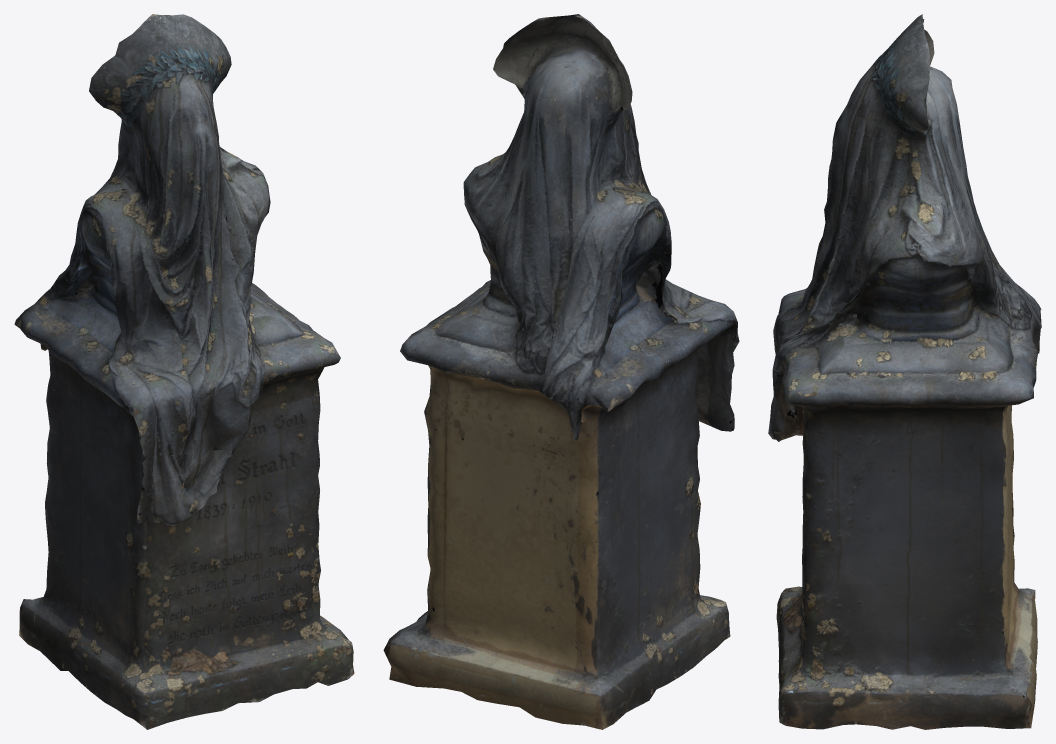
Rendered from angel_statue4.glb.
3 renders of one model, left to right at view 1: azimuth 30°, elevation 25°; view 2: azimuth 150°, elevation 25°; view 3: azimuth 270°, elevation 25°, orthographic.
Visible parts, largest first — view 1: geo1; view 2: geo1; view 3: geo1.
Boxes of the visible parts, left/top/right/bottom form: geo1: left=14, top=14, right=354, bottom=729; geo1: left=383, top=14, right=739, bottom=729; geo1: left=768, top=14, right=1041, bottom=729.
Bounding box in the file's own units: 0.00689 × 0.0184 × 0.00702.
1 material, 1 textured.
